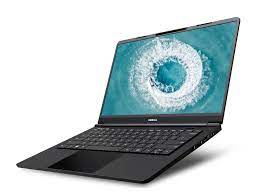laptop: (21, 18, 241, 181)
